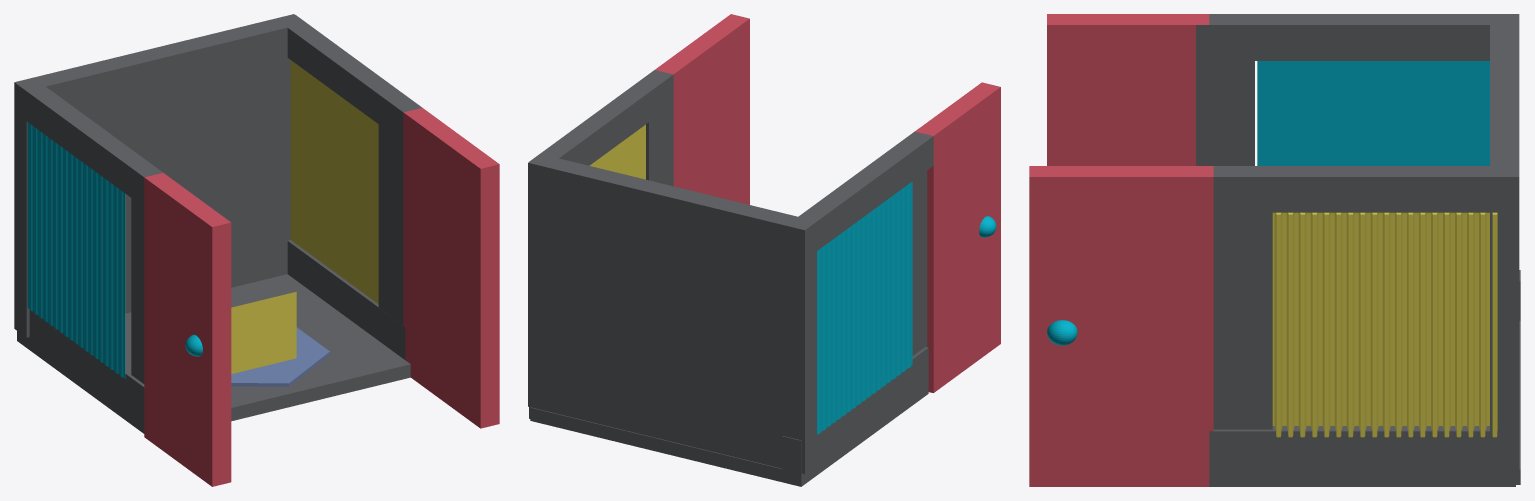
The model's file is Copy of Calm Table 1.glb.
The picture shows the model from 3 angles, left to right: view 1: azimuth 30°, elevation 25°; view 2: azimuth 150°, elevation 25°; view 3: azimuth 270°, elevation 25°; orthographic projection. The views are drawn at different scales.
Visible parts, largest first — view 1: Mesh_Mesh_head_geo.001_lambert2SG.001; view 2: Mesh_Mesh_head_geo.001_lambert2SG.001; view 3: Mesh_Mesh_head_geo.001_lambert2SG.001.
Boxes of the visible parts, x1,y1,x2,y2 form: Mesh_Mesh_head_geo.001_lambert2SG.001: (14, 14, 499, 486); Mesh_Mesh_head_geo.001_lambert2SG.001: (528, 14, 1000, 486); Mesh_Mesh_head_geo.001_lambert2SG.001: (1029, 14, 1520, 486).
Bounding box in the file's own units: 0.0945 × 0.078 × 0.112.
